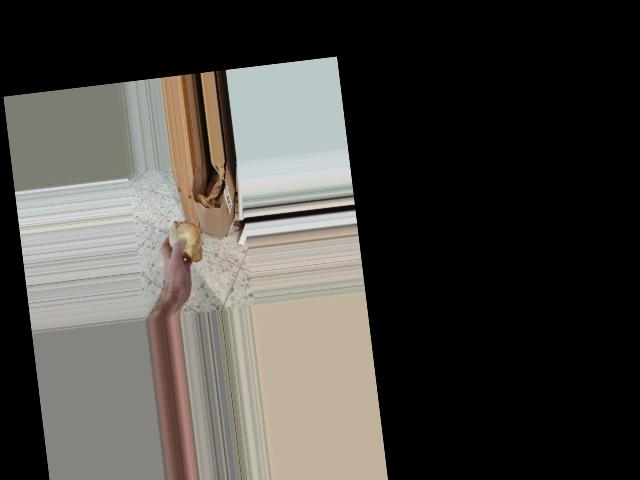onion: (164, 216, 207, 266)
